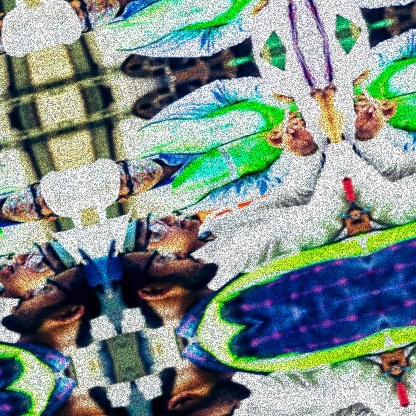vest: (129, 82, 317, 219), (185, 230, 376, 337)
white: (75, 150, 133, 220)
